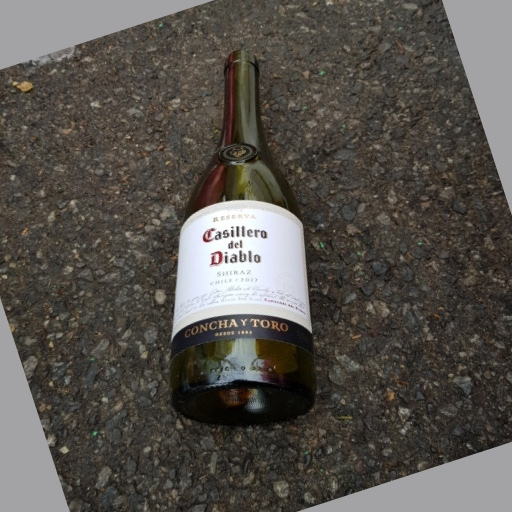Glass_2: (168, 51, 318, 427)
